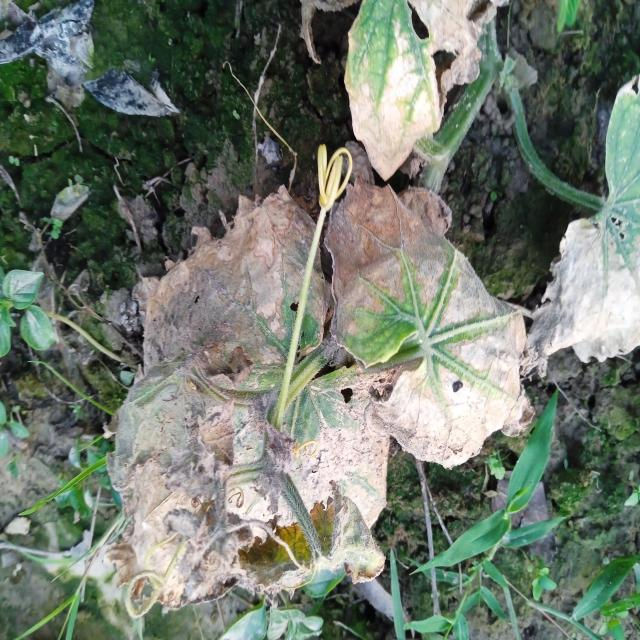cucumber_bacterial: (100, 379, 384, 593), (509, 215, 640, 389), (362, 0, 535, 110), (402, 380, 514, 467), (184, 370, 185, 371)
